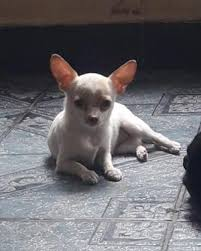chihuahua: (35, 32, 181, 195)
